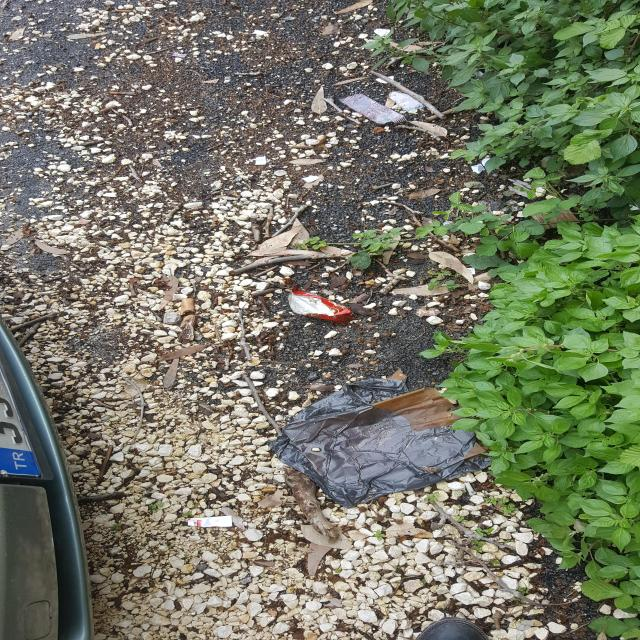litter: (266, 378, 491, 509), (372, 387, 489, 461), (288, 284, 356, 322), (338, 93, 406, 124), (188, 515, 232, 527), (464, 482, 477, 496), (471, 163, 484, 174), (171, 52, 187, 58), (467, 268, 476, 274), (95, 44, 102, 50)
